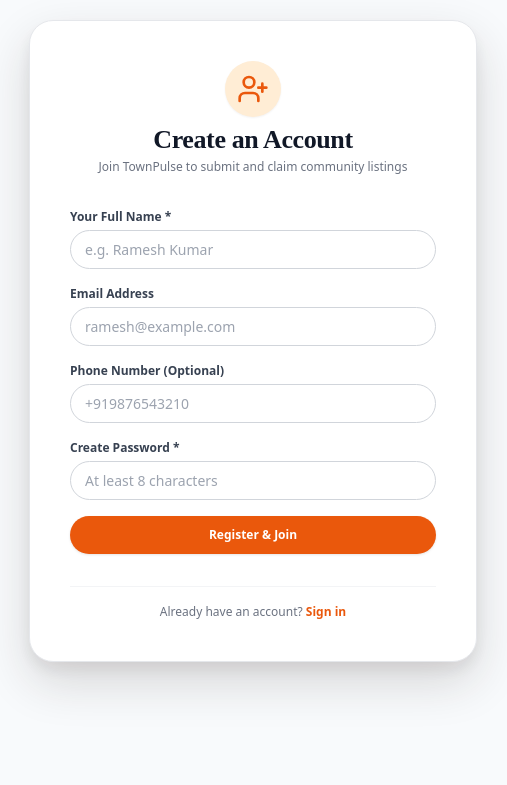
Test case: Register flow › surfaces a 409 conflict as readable text
This screenshot has width=507, height=785.
Type "Jane Doe" into the field with placeholder "e.g. Ramesh Kumar" at (253, 250), box [70,230,436,269]
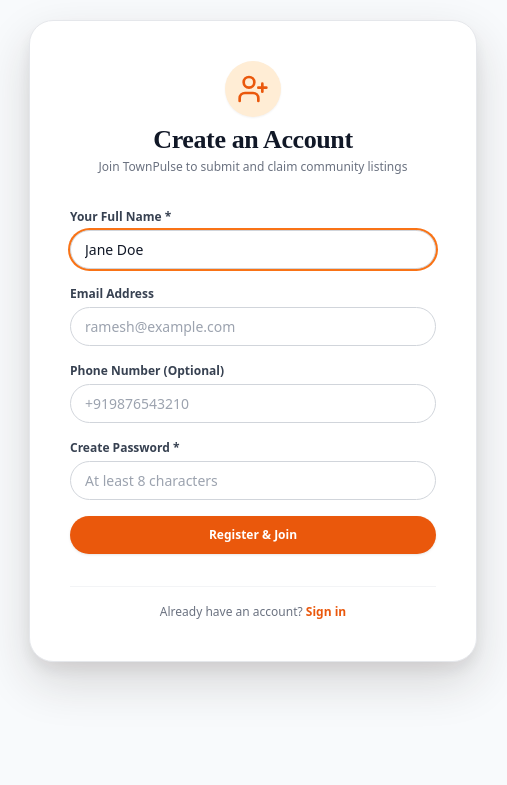
Type "jane@example.com" into the field with placeholder "ramesh@example.com" at (253, 327), box [70,307,436,346]
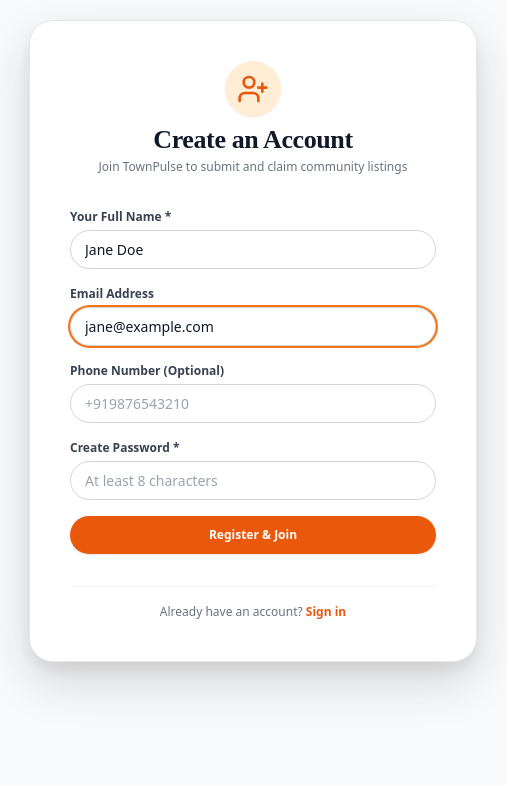
Type "SecurePassword123!" into the password field with placeholder "At least 8 characters" at (253, 481), box [70,461,436,500]
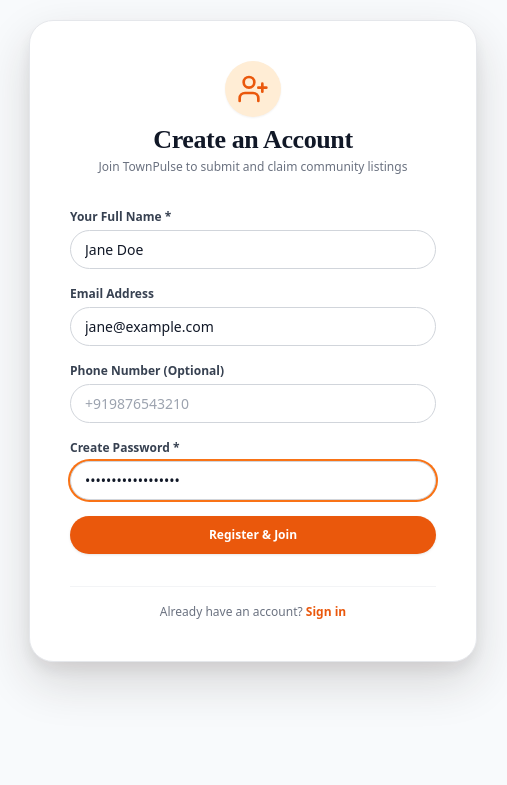
Click the button "Register & Join" at (253, 535), box [70,516,436,554]
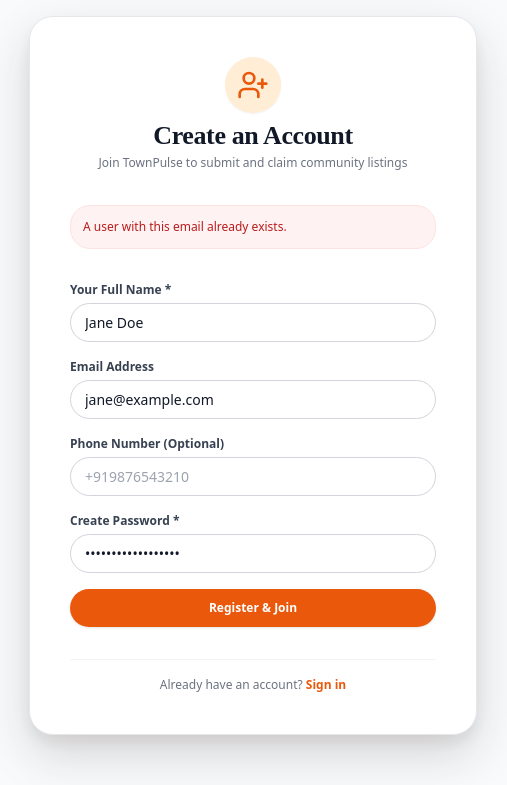
expect the text "A user with this email already exists." is shown: met, box [70,205,436,249]
